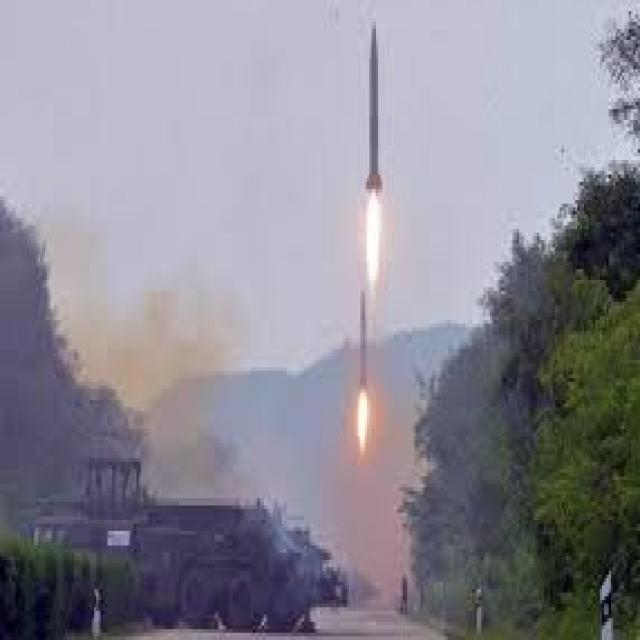missile: (362, 21, 382, 190), (355, 289, 370, 392)
